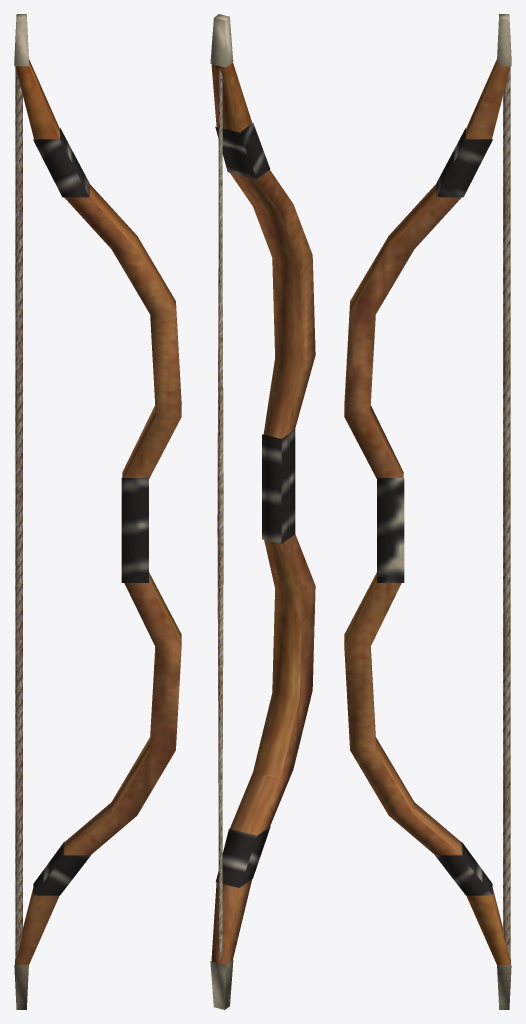
Rendered from bow.glb.
3 renders of one model, left to right at view 1: azimuth 90°, elevation 25°; view 2: azimuth 150°, elevation 25°; view 3: azimuth 270°, elevation 25°, orthographic.
Parts seen in each view (by area): view 1: WeaponBow; view 2: WeaponBow; view 3: WeaponBow.
Boxes of the visible parts, x1,y1,x2,y2 form: WeaponBow: (14,14,181,1009); WeaponBow: (210,14,315,1009); WeaponBow: (344,14,511,1009).
Size of the model in its own units: 0.0378 by 1.23 by 0.1877.
1 material, 1 textured.
